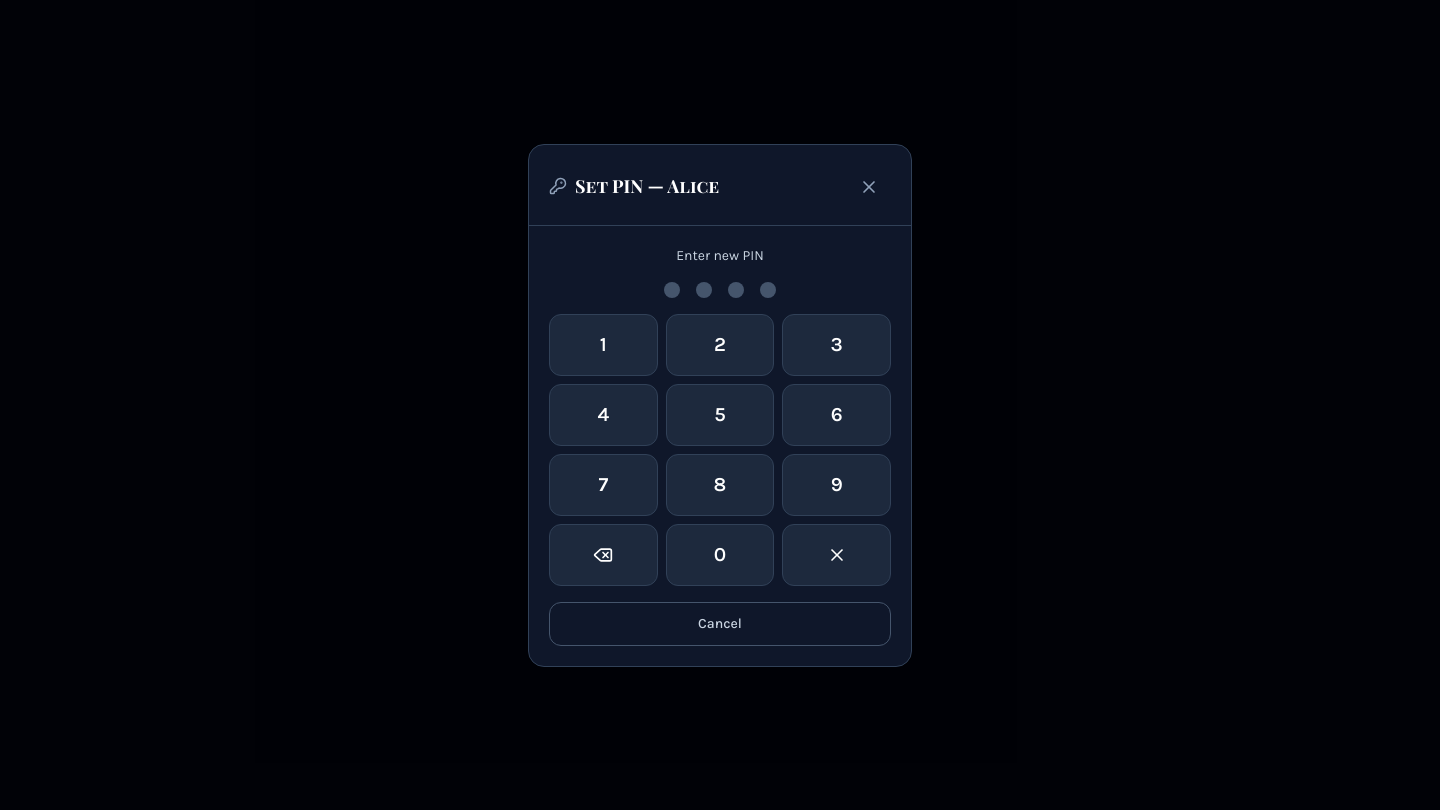
SetPinModal › advances to step 2 after 4 digits entered in step 1
Click the button "1": (603,344) [549,314,658,376]
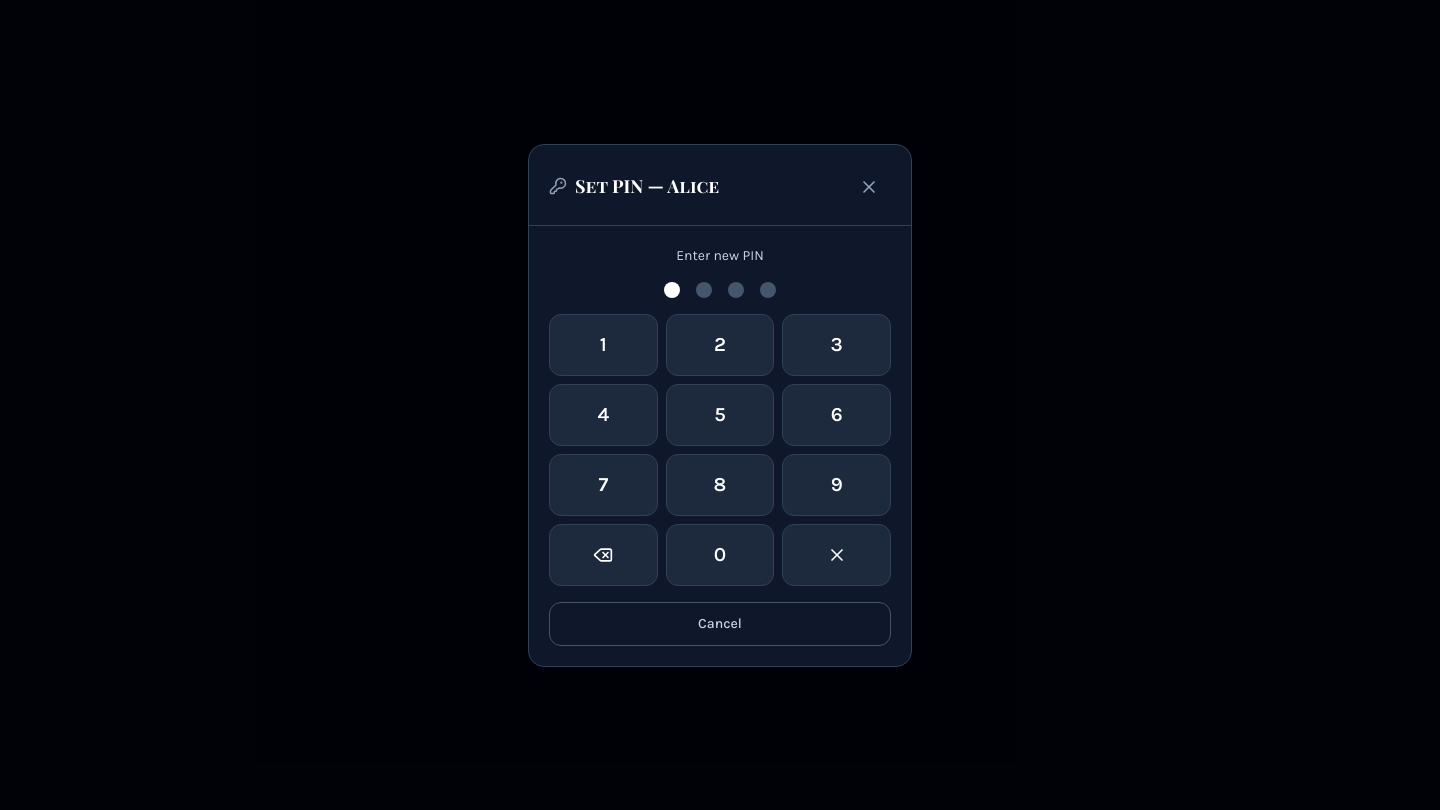
Click the button "2": (720,344) [666,314,774,376]
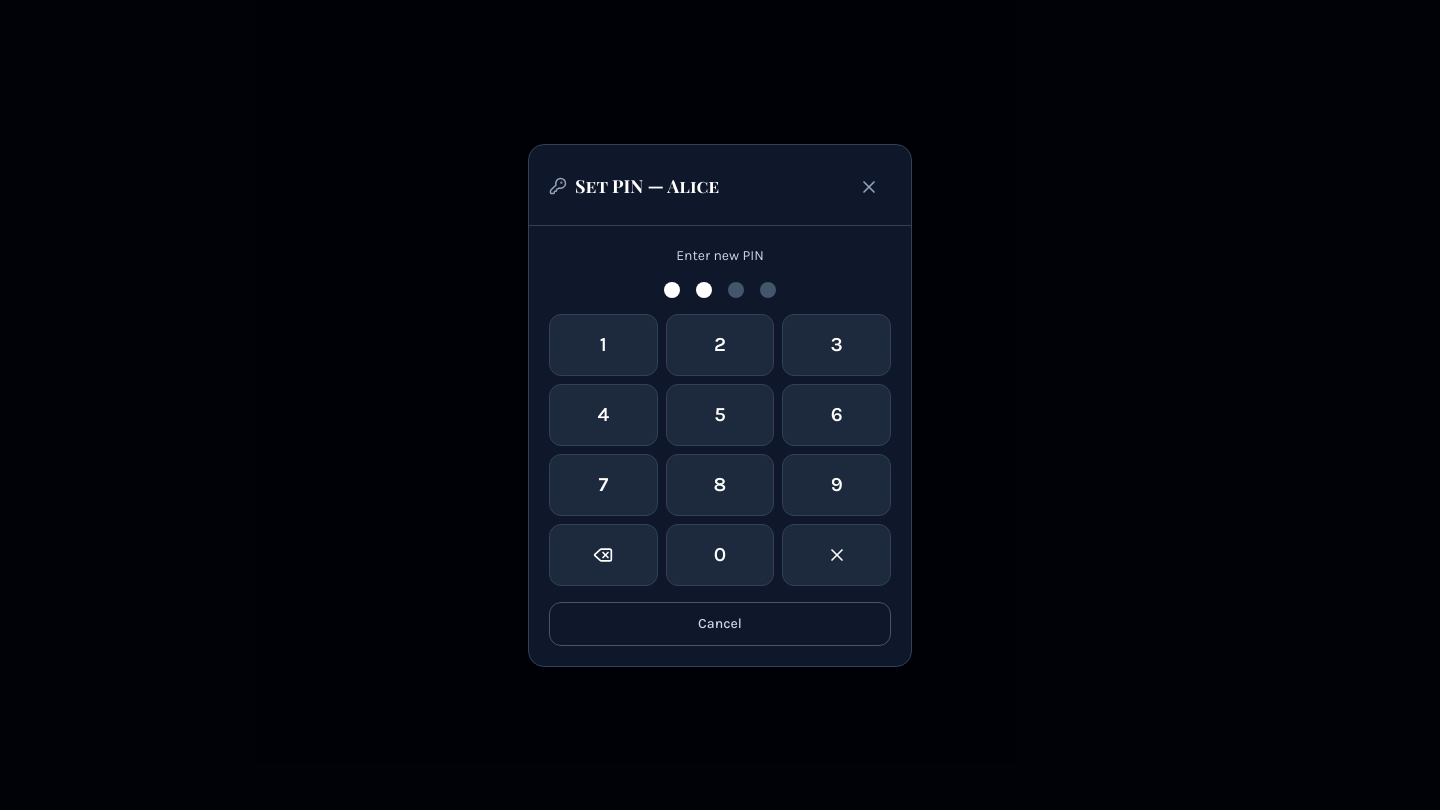
Click the button "3": (837,344) [782,314,891,376]
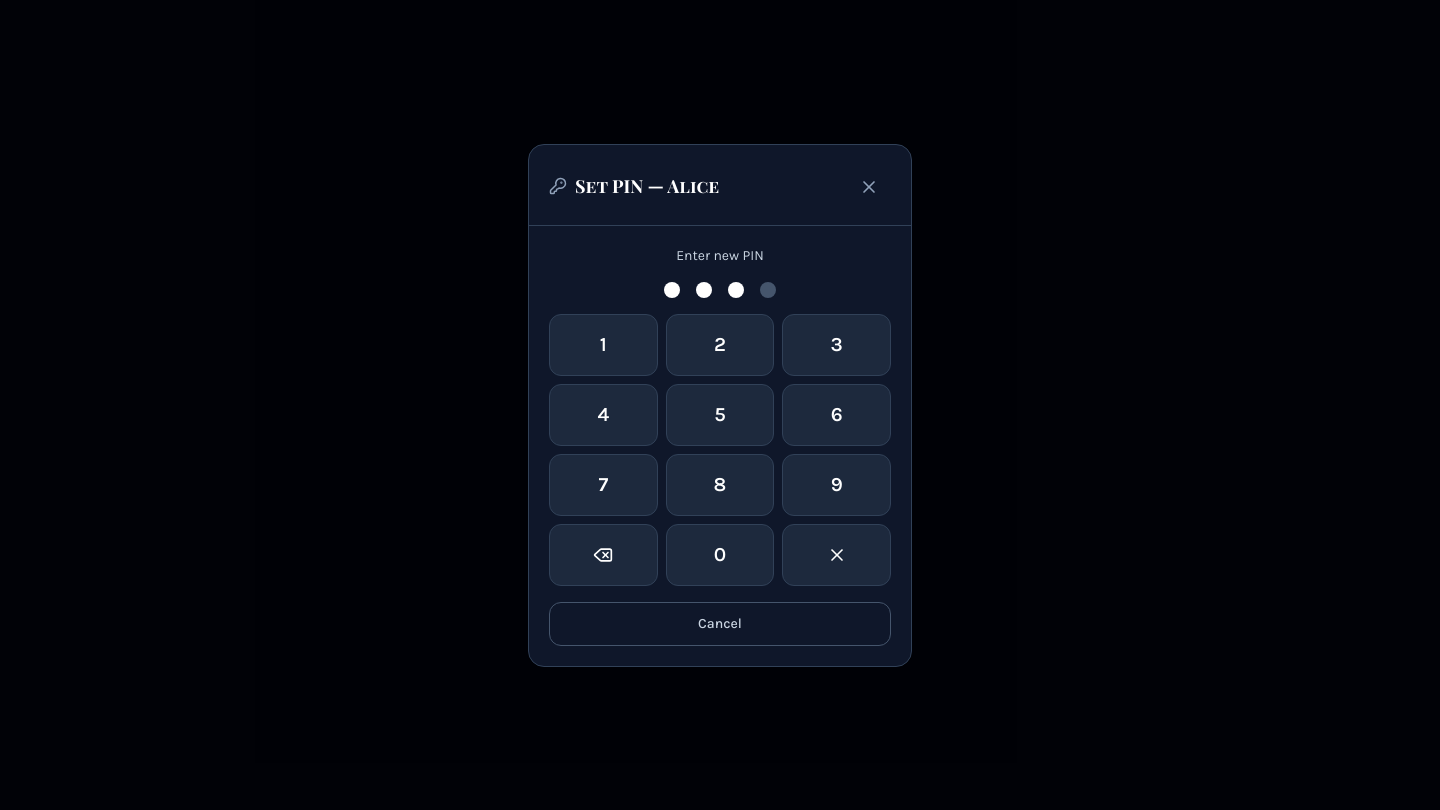
Click the button "4": (603,414) [549,384,658,446]
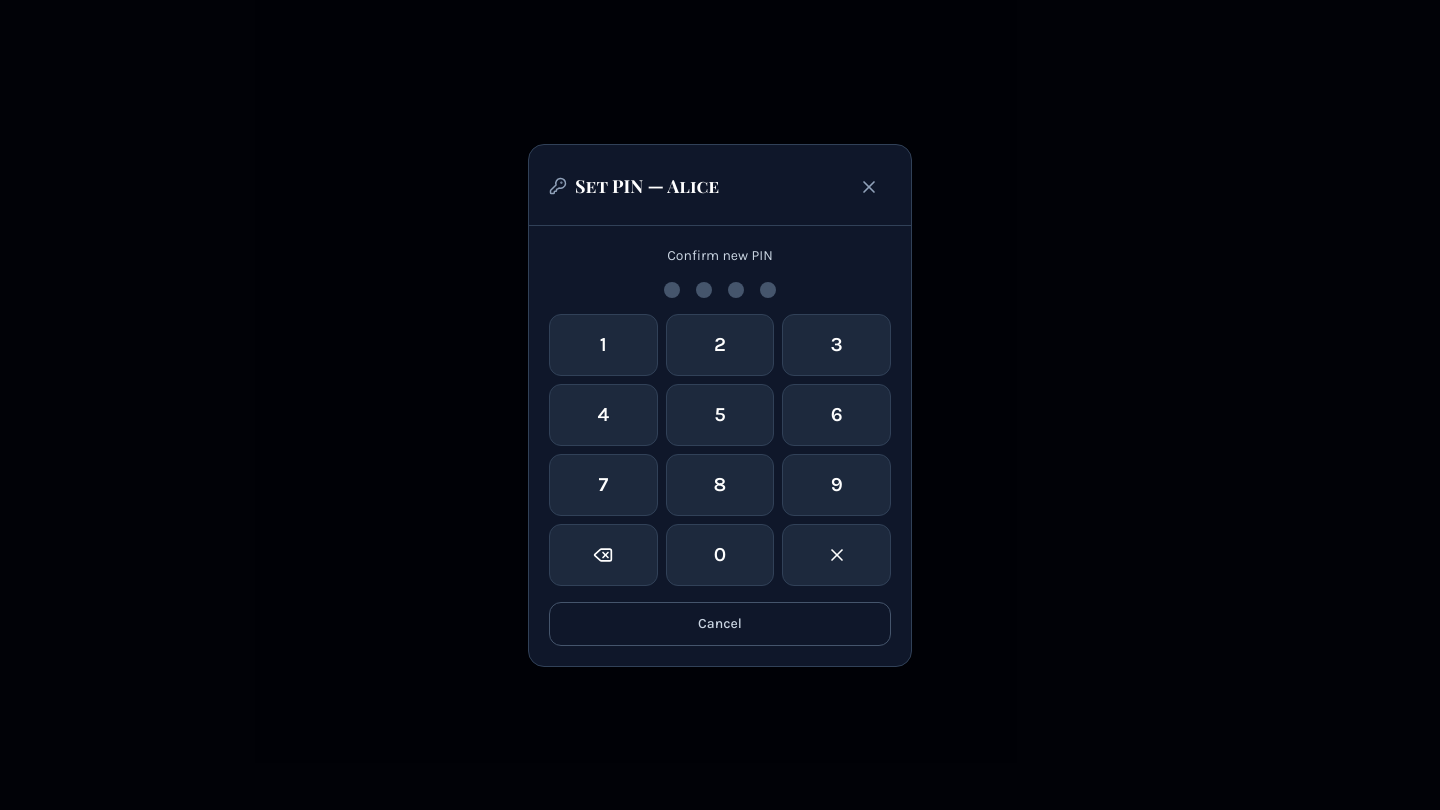
Now the text "Confirm new PIN" is shown, box [667,246,773,264]
